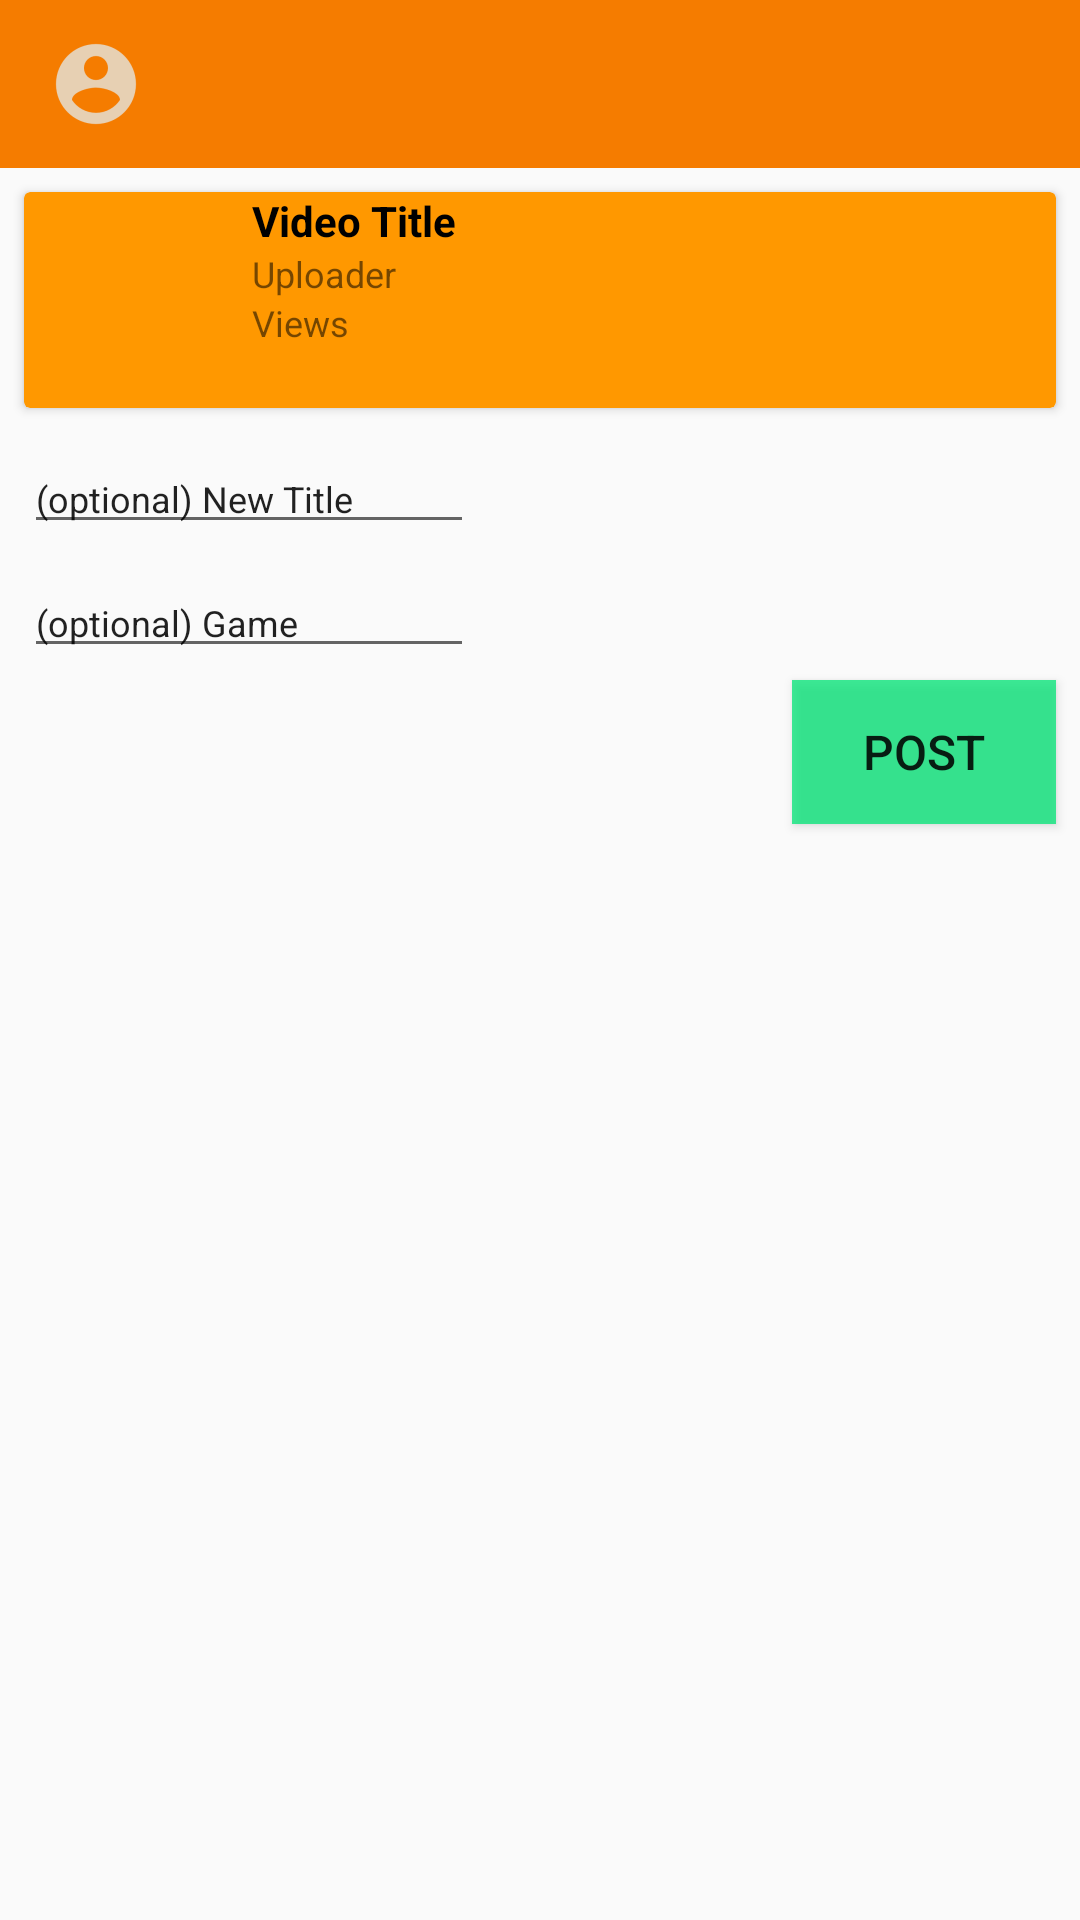

Icons on this 1080w x 1920h Android screen, each with the point to tap as point (x, y):
Profile Picture: point (96, 84)
